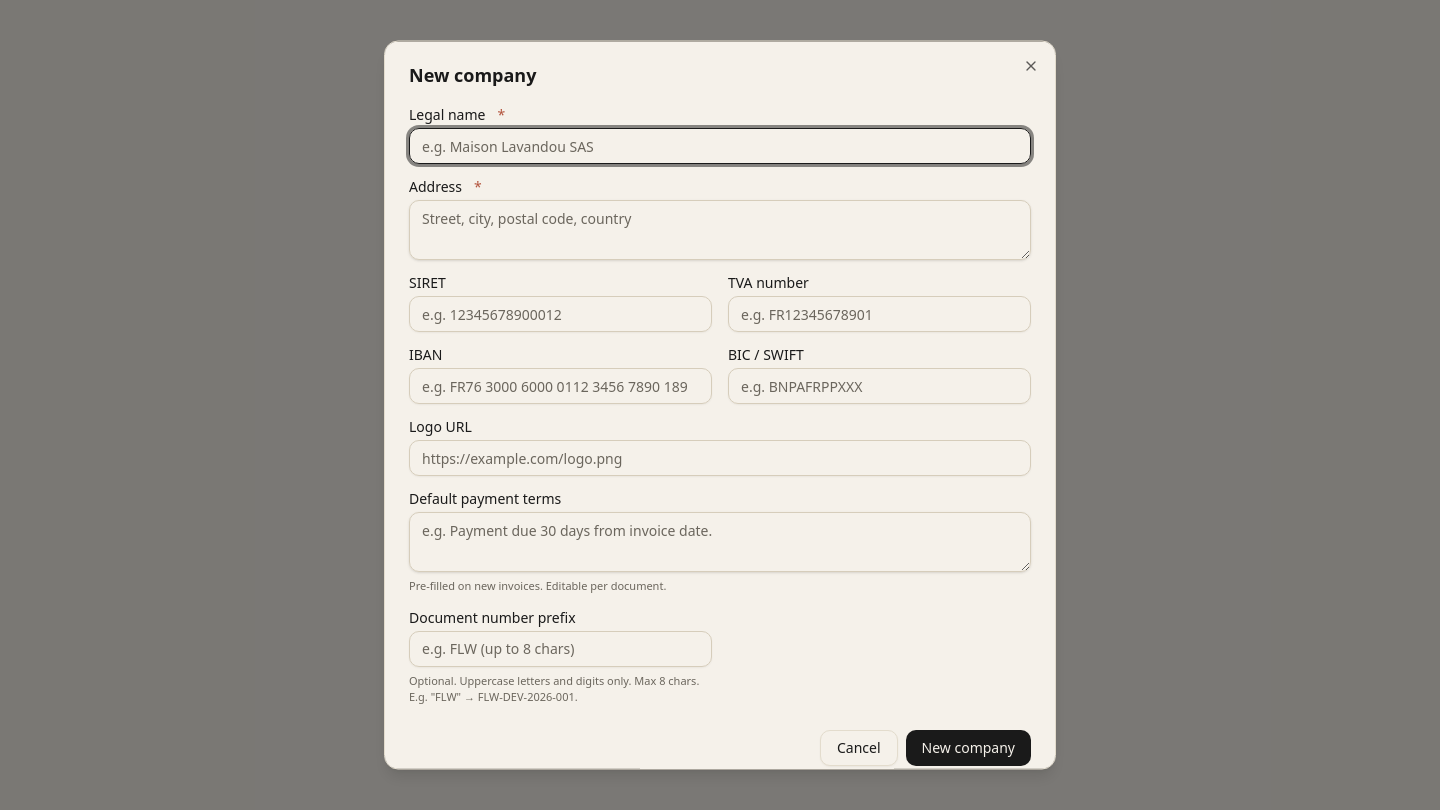
Test: CompanyCreateDialog — required field validation › shows legalName error when legal_name is empty on submit
The width and height of the screenshot is (1440, 810).
Only fill address, leave legal_name empty
Type "Paris" into the text box labelled "Address *" at point(720, 230), box [409,200,1031,260]
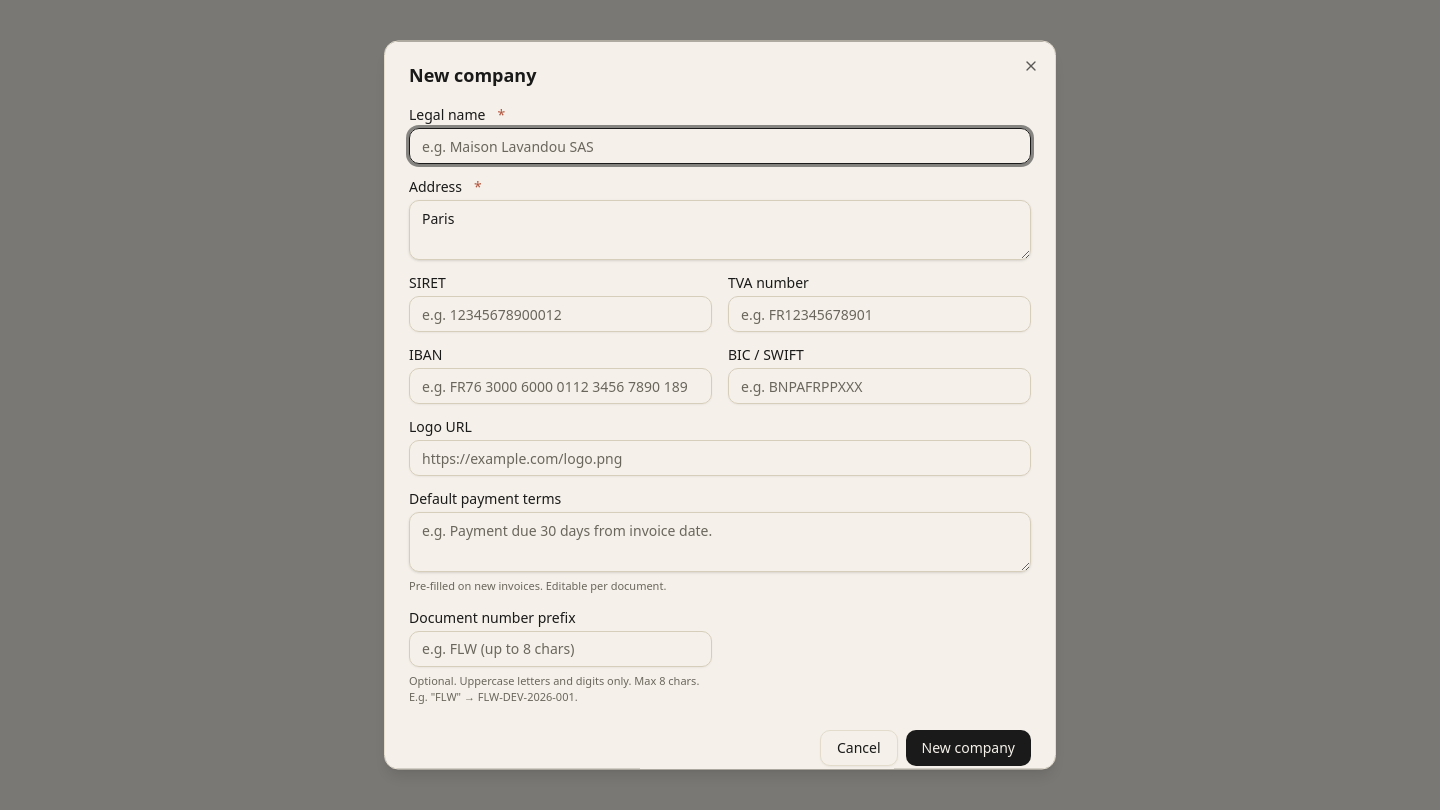
Click the button "New company" at point(968, 747), box [906,729,1031,765]
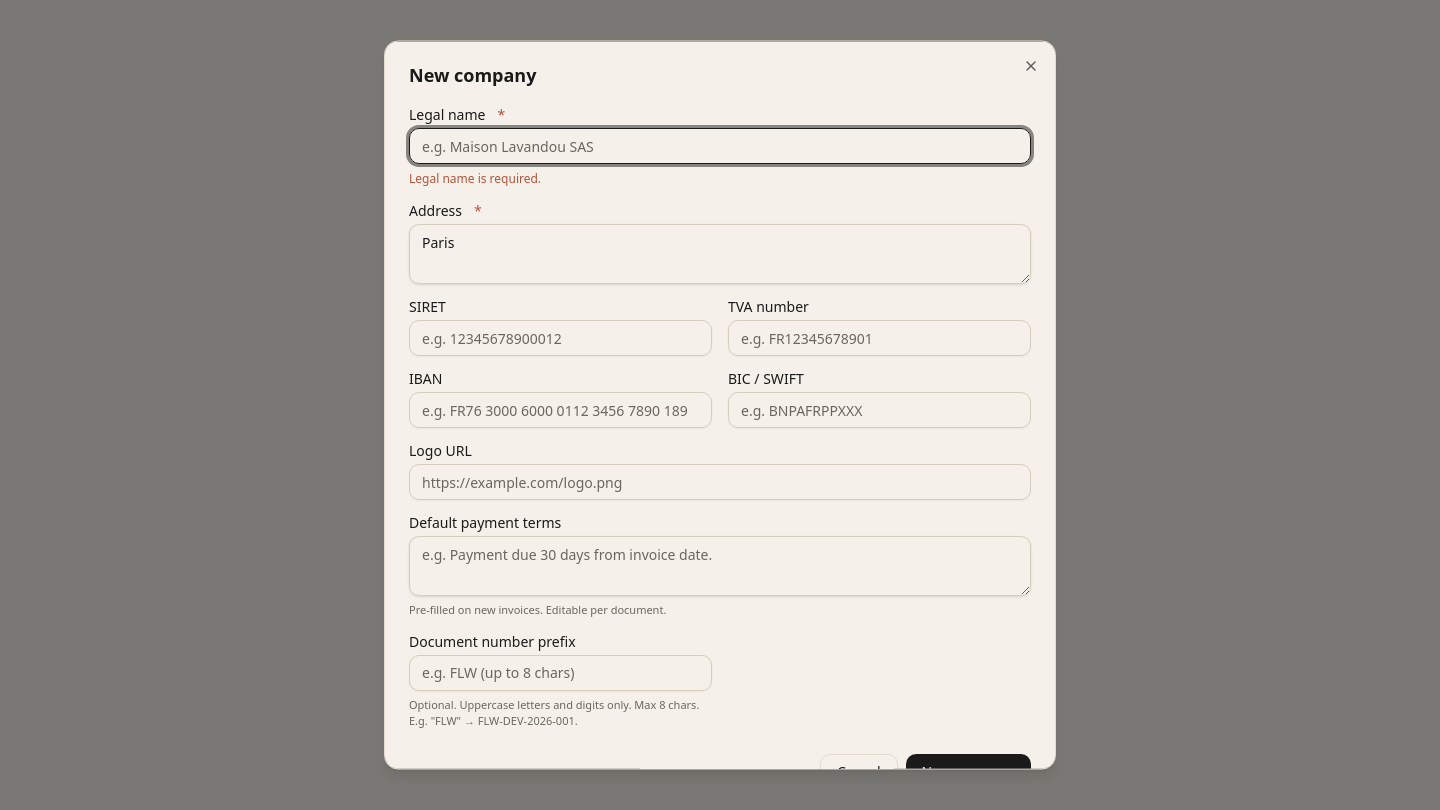
Check: the text "Legal name is required." is shown, box [409,170,541,186]
